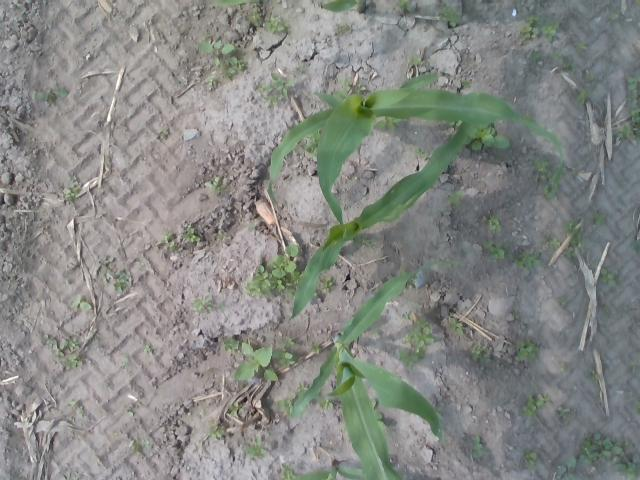Maize: (267, 73, 564, 232), (286, 122, 484, 322), (289, 261, 464, 480), (210, 0, 369, 14), (292, 458, 363, 480)
Weeds: (245, 244, 302, 299), (578, 432, 640, 480), (398, 318, 436, 368), (233, 342, 279, 382), (254, 72, 294, 110), (42, 333, 82, 369), (464, 122, 511, 152), (198, 34, 236, 66), (98, 255, 130, 292), (332, 78, 368, 102), (520, 394, 554, 418), (192, 294, 226, 314), (552, 454, 578, 480), (482, 239, 514, 260), (562, 219, 584, 248), (520, 14, 544, 40), (370, 398, 388, 431), (34, 87, 68, 104), (514, 338, 539, 361), (302, 128, 322, 156), (624, 72, 640, 105), (244, 435, 266, 459), (532, 158, 554, 182), (62, 176, 82, 202), (471, 340, 492, 364), (514, 251, 542, 269), (438, 2, 458, 27), (276, 391, 295, 417), (180, 221, 202, 243), (224, 56, 246, 78), (372, 114, 401, 130), (158, 232, 180, 253), (444, 190, 464, 213), (204, 420, 226, 440), (598, 268, 620, 287), (264, 17, 288, 34), (279, 350, 300, 368), (203, 176, 226, 192), (70, 295, 93, 311), (542, 20, 560, 40), (472, 436, 488, 458), (352, 236, 377, 250), (128, 438, 150, 453), (67, 400, 85, 418), (280, 462, 298, 480), (524, 449, 538, 472), (482, 215, 502, 231), (399, 270, 416, 288), (221, 336, 240, 352), (227, 400, 244, 417), (556, 405, 573, 422), (448, 317, 464, 334), (629, 106, 640, 130), (576, 88, 592, 104), (248, 8, 262, 26), (320, 275, 334, 292), (412, 146, 430, 159), (584, 368, 600, 382), (560, 246, 576, 260), (617, 124, 632, 138), (591, 212, 606, 226), (396, 0, 412, 13), (627, 358, 640, 374), (318, 398, 334, 410), (336, 24, 352, 35), (279, 336, 296, 346), (410, 55, 425, 66), (296, 382, 308, 395), (576, 42, 590, 53), (310, 340, 320, 354), (446, 119, 463, 127), (564, 59, 574, 72), (520, 112, 532, 122), (556, 297, 568, 307), (548, 236, 560, 246), (60, 474, 79, 480), (216, 230, 227, 240), (206, 76, 219, 84), (634, 398, 640, 415), (460, 78, 470, 88), (552, 50, 562, 60), (142, 344, 152, 354), (531, 52, 542, 61), (559, 362, 568, 372), (401, 311, 411, 320), (125, 407, 134, 417), (160, 128, 169, 138), (609, 12, 619, 20), (512, 308, 520, 318), (92, 332, 101, 340), (602, 306, 610, 314), (372, 328, 380, 336), (248, 224, 255, 230), (451, 305, 456, 311)
